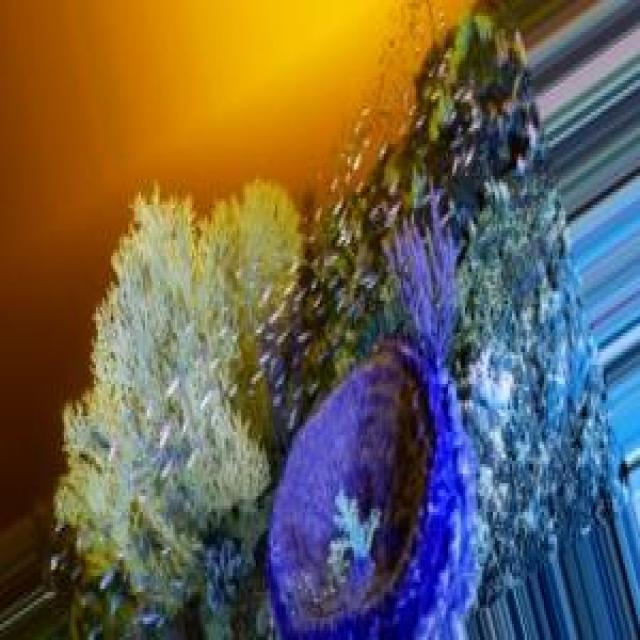Bleached: (52, 185, 305, 620)
Healthy: (276, 343, 464, 635), (477, 196, 613, 587), (413, 17, 543, 209), (391, 196, 475, 478)
